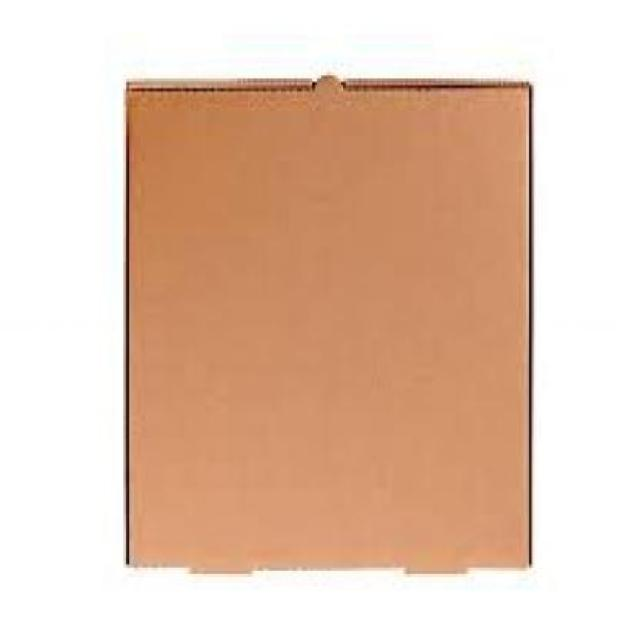CARDBOARD: (124, 85, 536, 577)
